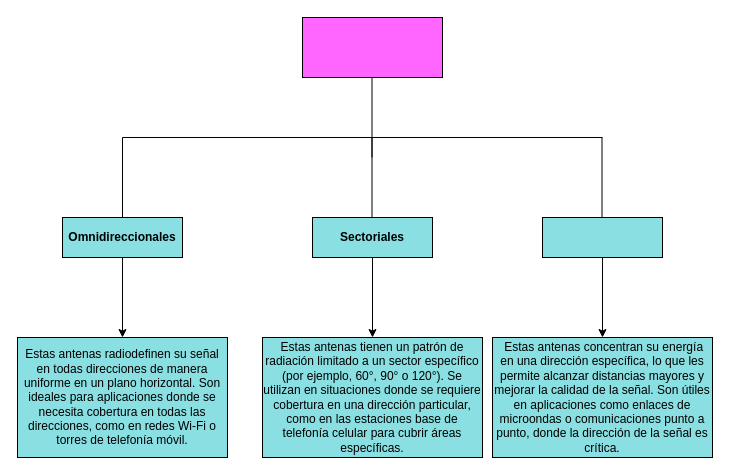
The diagram is 730 pixels wide and 475 high, and some of its shapes have lost their labels. The shapes that lost their labels are listed below. From the top down, each one's centre as x and y in pixels, then its label:
At pixel 372 47: "¿Que son las antenas?".
At pixel 602 237: "Direccionales".
